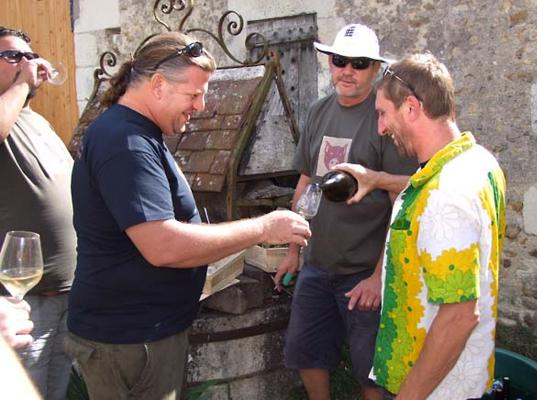person: (332, 52, 506, 399)
